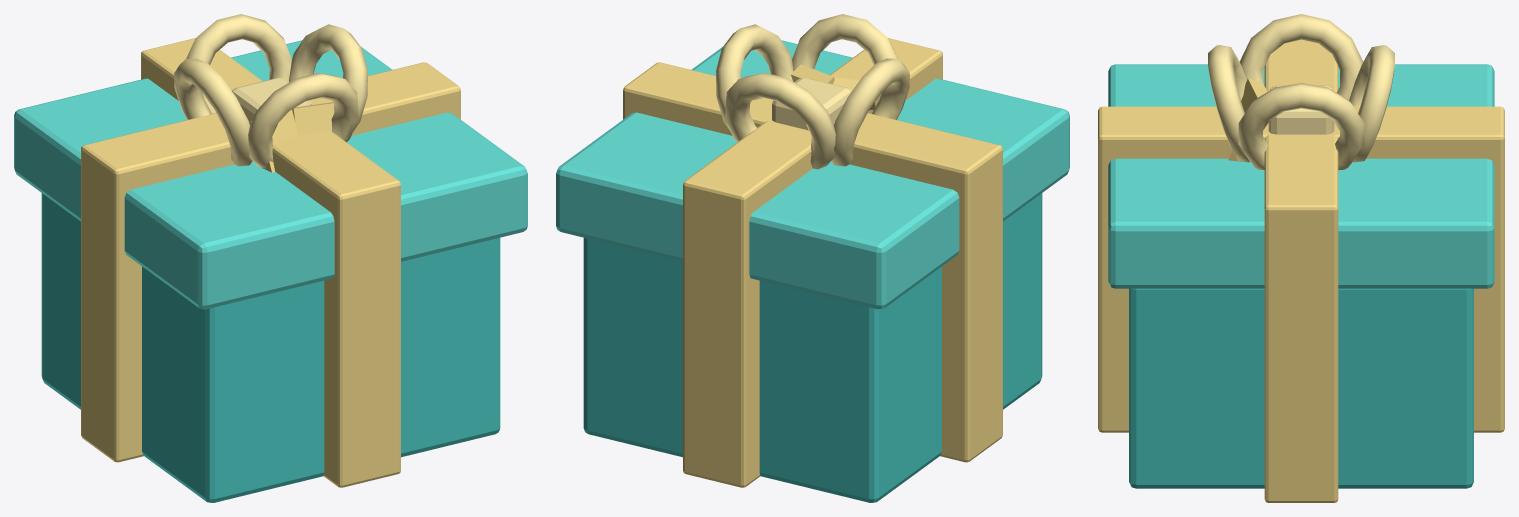
The model's file is Gift.glb.
The picture shows the model from 3 angles, left to right: view 1: azimuth 30°, elevation 25°; view 2: azimuth 150°, elevation 25°; view 3: azimuth 270°, elevation 25°; orthographic projection.
Visible parts, largest first — view 1: Gift; view 2: Gift; view 3: Gift.
Part boxes in pixels (x1=…): Gift: x1=14, y1=14, x2=527, y2=502; Gift: x1=556, y1=14, x2=1069, y2=502; Gift: x1=1098, y1=14, x2=1504, y2=502.
Bounding box in the file's own units: 0.99 × 0.9893 × 0.99.
